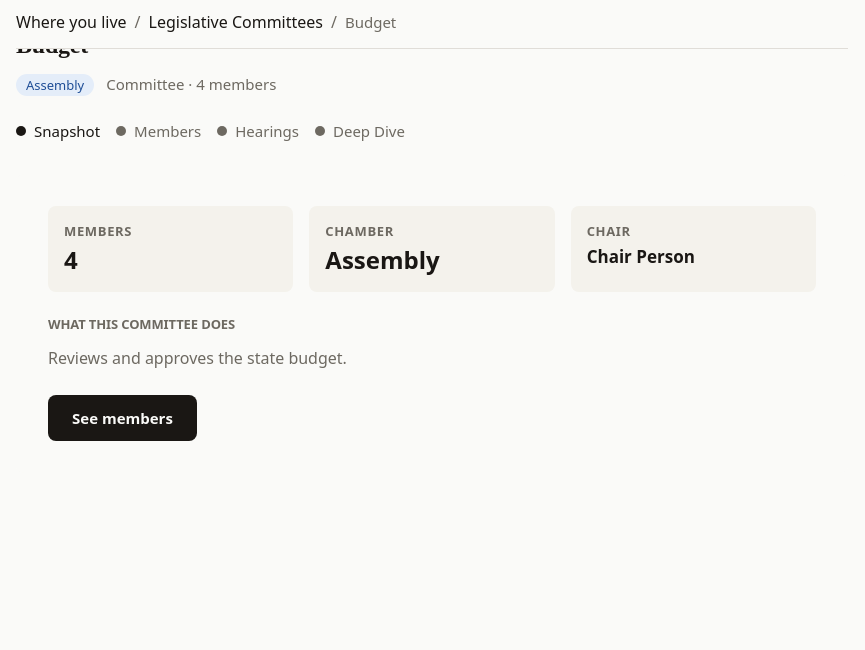
LegislativeCommitteeDetailPage › groups members by role on the Members layer
The image size is (865, 650).
Click the button "See members".
click(122, 418)  # box [48,395,197,442]
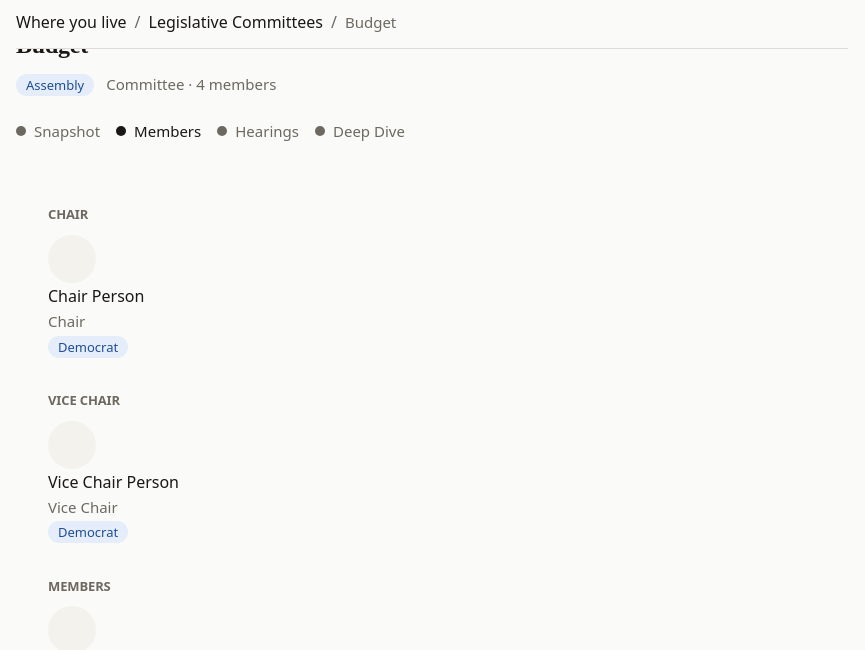
Expected: the heading "Chair" is shown, [48,205,88,223]
Expected: the heading "Vice Chair" is shown, [48,391,120,409]
Expected: the link "Chair Person Chair Democrat" is shown, [48,235,144,358]
